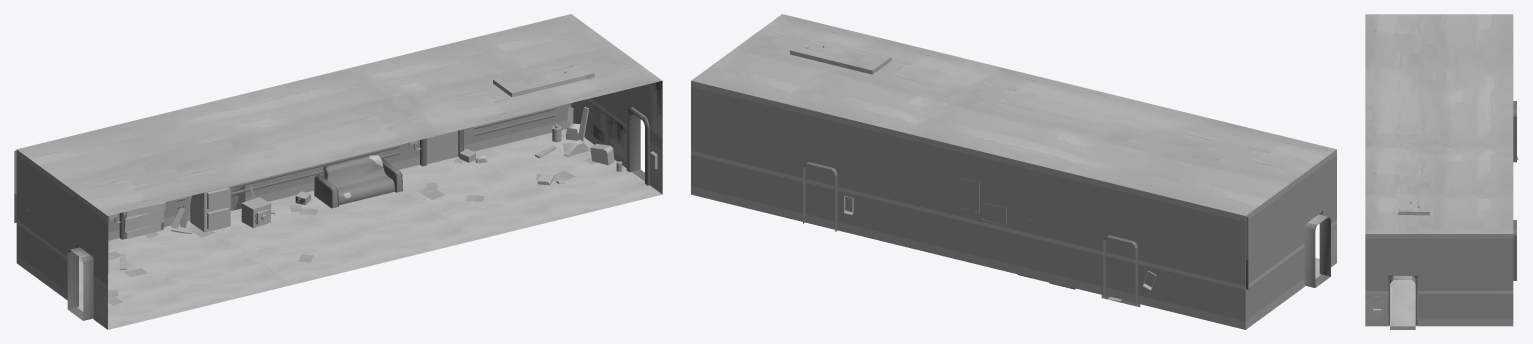
File: MSH_QuestIndustrial_L1_R3_optimized.fbx
The picture shows the model from 3 angles, left to right: view 1: azimuth 30°, elevation 25°; view 2: azimuth 150°, elevation 25°; view 3: azimuth 270°, elevation 25°; orthographic projection. The views are drawn at different scales.
Parts seen in each view (by area): view 1: lightmap0, MSH_QuestIndustrial_L1_R3_Ceiling_01, lightmap1, MSH_QuestIndustrial_L1_R3_Dirt_01, MSH_QuestIndustrial_L1_R3_Papers_01; view 2: lightmap0, MSH_QuestIndustrial_L1_R3_Ceiling_01, lightmap1; view 3: MSH_QuestIndustrial_L1_R3_Ceiling_01, lightmap0, lightmap1.
Part boxes in pixels (bbox=[...]): lightmap0: bbox=[16, 65, 662, 329]; MSH_QuestIndustrial_L1_R3_Ceiling_01: bbox=[17, 14, 662, 215]; lightmap1: bbox=[28, 107, 657, 320]; MSH_QuestIndustrial_L1_R3_Dirt_01: bbox=[14, 81, 662, 273]; MSH_QuestIndustrial_L1_R3_Papers_01: bbox=[79, 143, 597, 305]; lightmap0: bbox=[691, 46, 1336, 329]; MSH_QuestIndustrial_L1_R3_Ceiling_01: bbox=[691, 14, 1336, 215]; lightmap1: bbox=[841, 196, 1330, 290]; MSH_QuestIndustrial_L1_R3_Ceiling_01: bbox=[1365, 14, 1513, 233]; lightmap0: bbox=[1365, 101, 1516, 326]; lightmap1: bbox=[1373, 275, 1415, 329].
Bounding box in the file's own units: 30.91 × 6.32 × 8.83.
2 materials, 2 textured.
